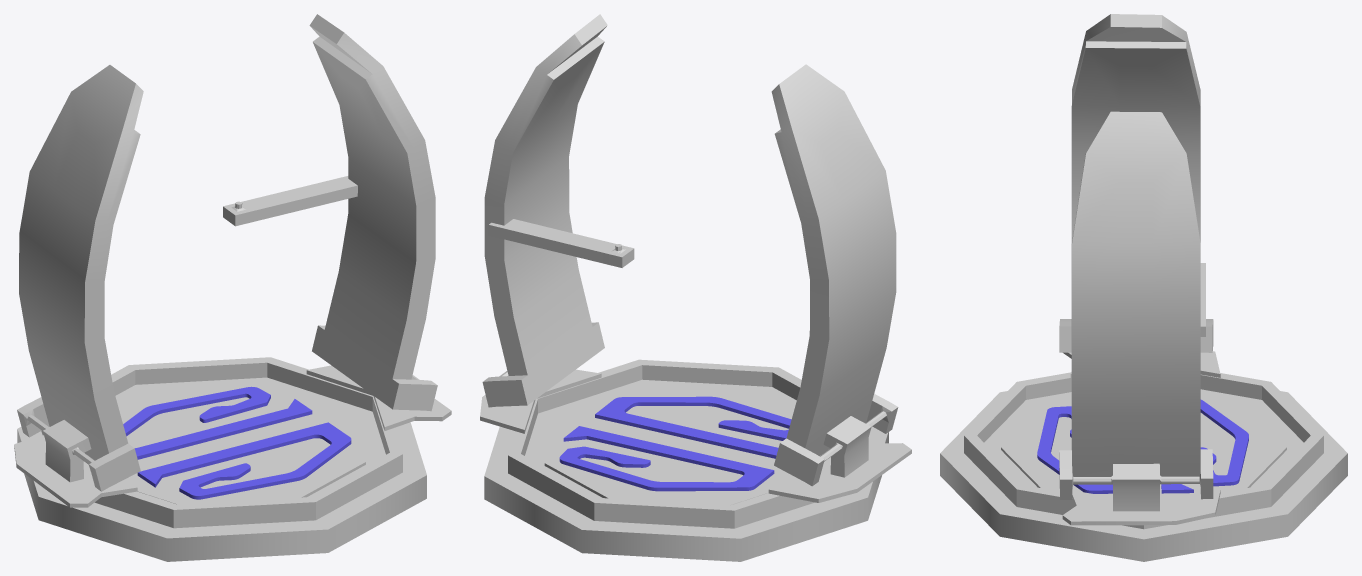
File: Portal.FBX
The picture shows the model from 3 angles, left to right: view 1: azimuth 30°, elevation 25°; view 2: azimuth 150°, elevation 25°; view 3: azimuth 270°, elevation 25°; orthographic projection. The views are drawn at different scales.
Parts seen in each view (by area): view 1: Base, Left, Right, Line002, Podporka; view 2: Base, Left, Right, Line002, Podporka; view 3: Right, Base, Left, Line002.
Boxes of the visible parts, x1=… form: Base: x1=17, y1=357, x2=426, y2=561; Left: x1=14, y1=65, x2=143, y2=507; Right: x1=306, y1=14, x2=451, y2=430; Line002: x1=123, y1=386, x2=351, y2=499; Podporka: x1=223, y1=176, x2=357, y2=226; Base: x1=484, y1=359, x2=888, y2=561; Left: x1=768, y1=64, x2=911, y2=502; Right: x1=480, y1=14, x2=607, y2=433; Line002: x1=559, y1=396, x2=791, y2=491; Podporka: x1=488, y1=219, x2=634, y2=267; Right: x1=1059, y1=111, x2=1220, y2=525; Base: x1=940, y1=372, x2=1347, y2=561; Left: x1=1059, y1=14, x2=1220, y2=377; Line002: x1=1037, y1=399, x2=1248, y2=493.
Size of the model in its own units: 49.13 by 52.9 by 47.3.
